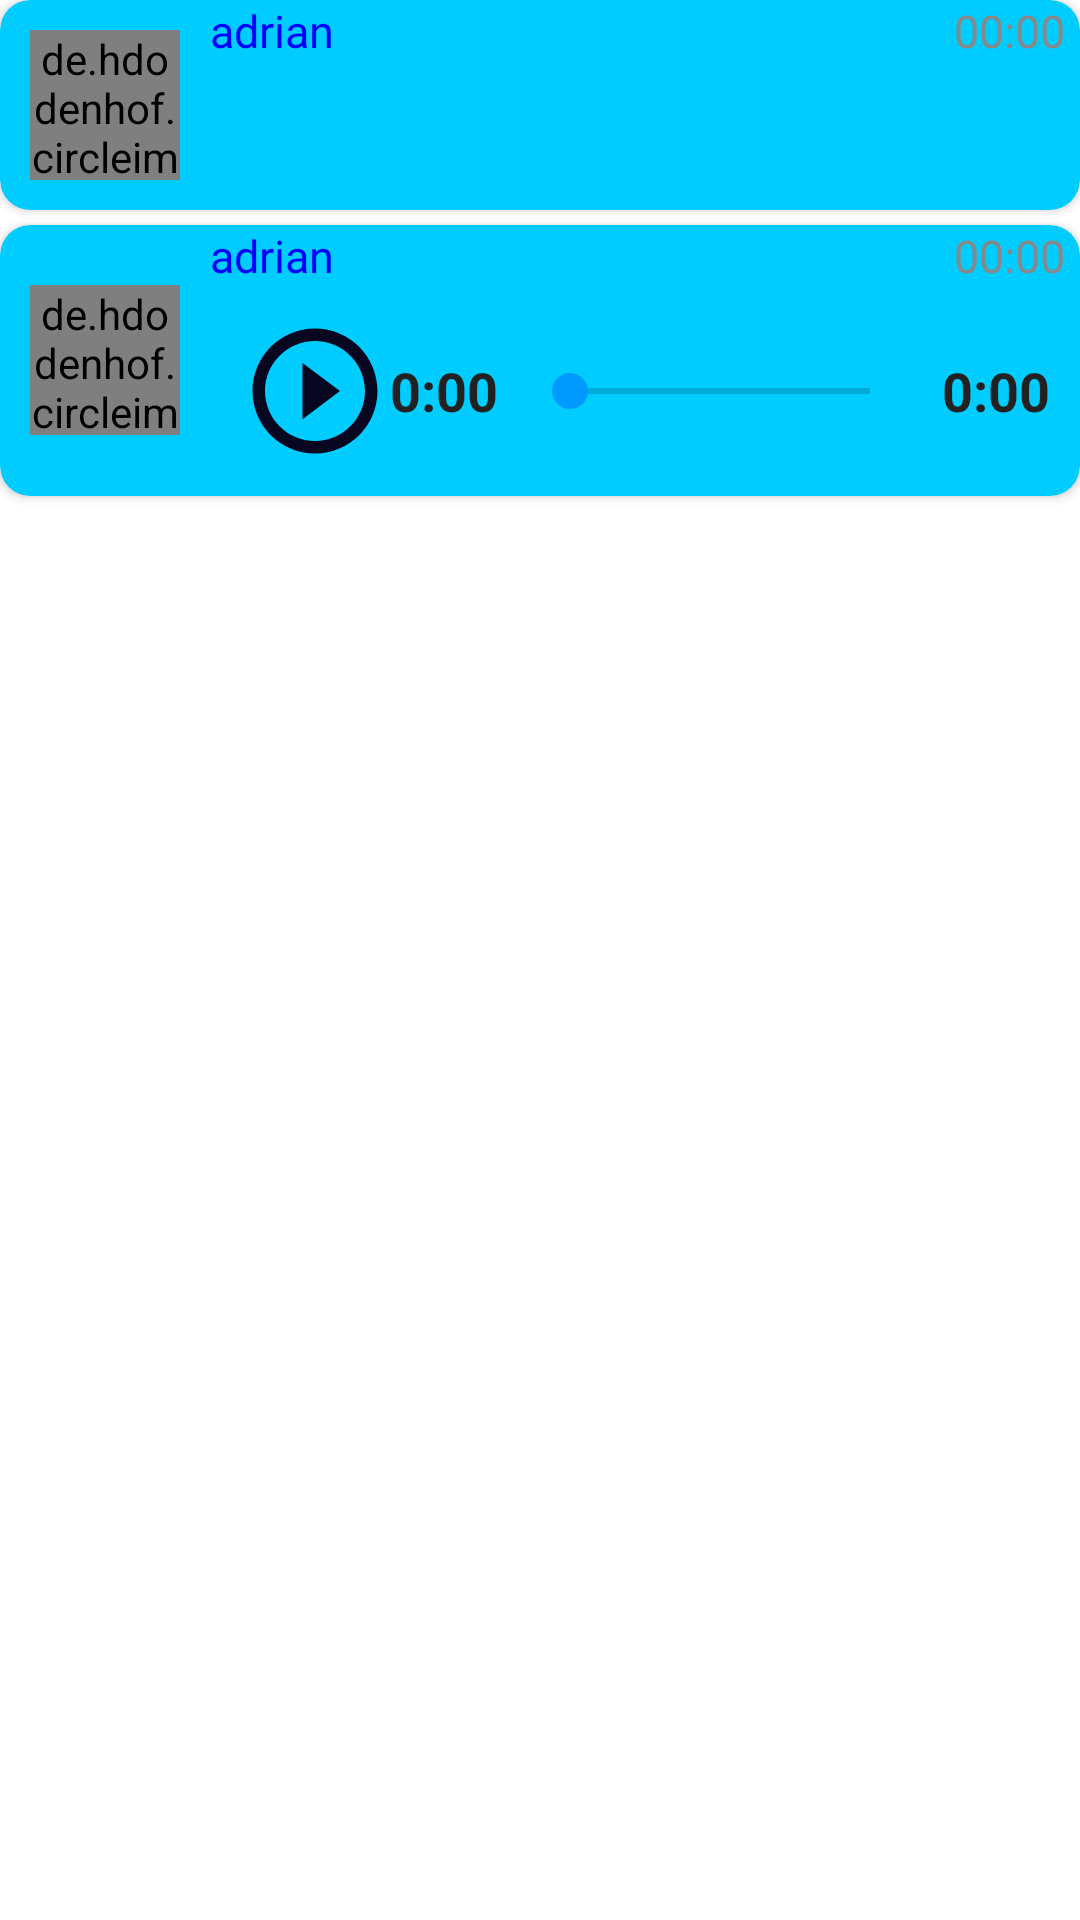

Named icons in this screenshot (1080px×1920px) and their bounding boxes, BBox(x1, y1, x2, y2):
play: BBox(252, 328, 378, 454)
